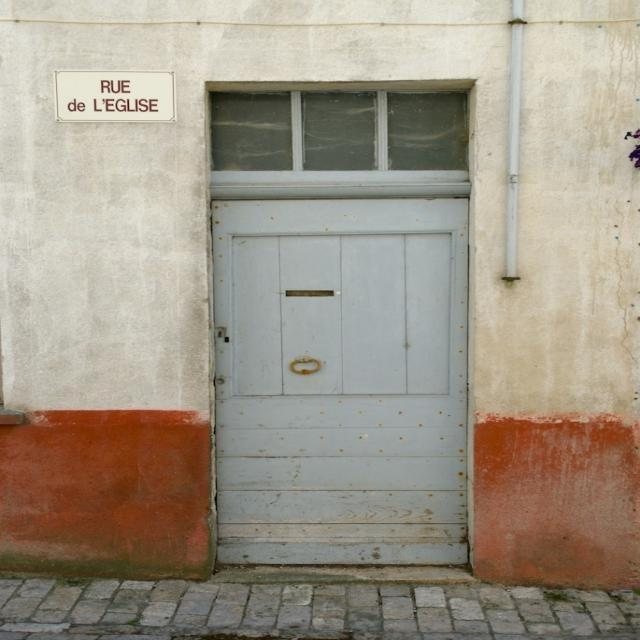door: (206, 177, 484, 581)
